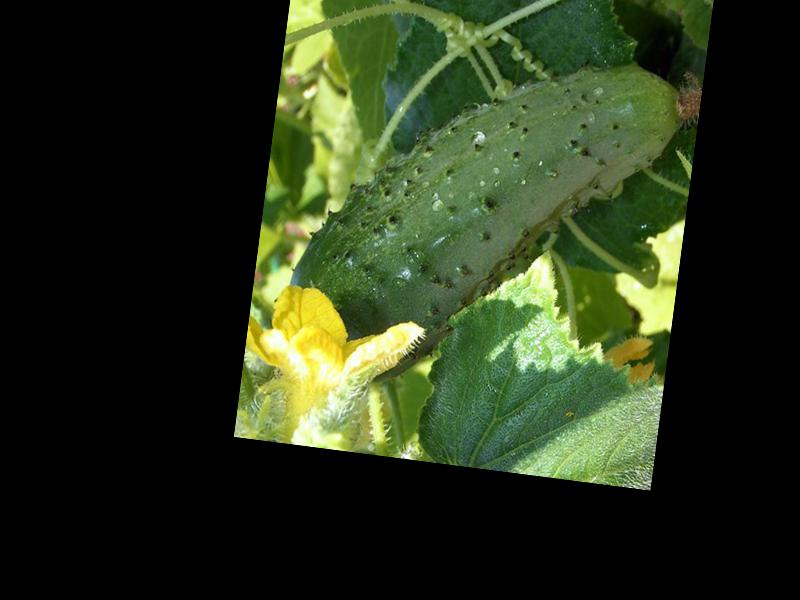Cucumber: (278, 24, 703, 420)
